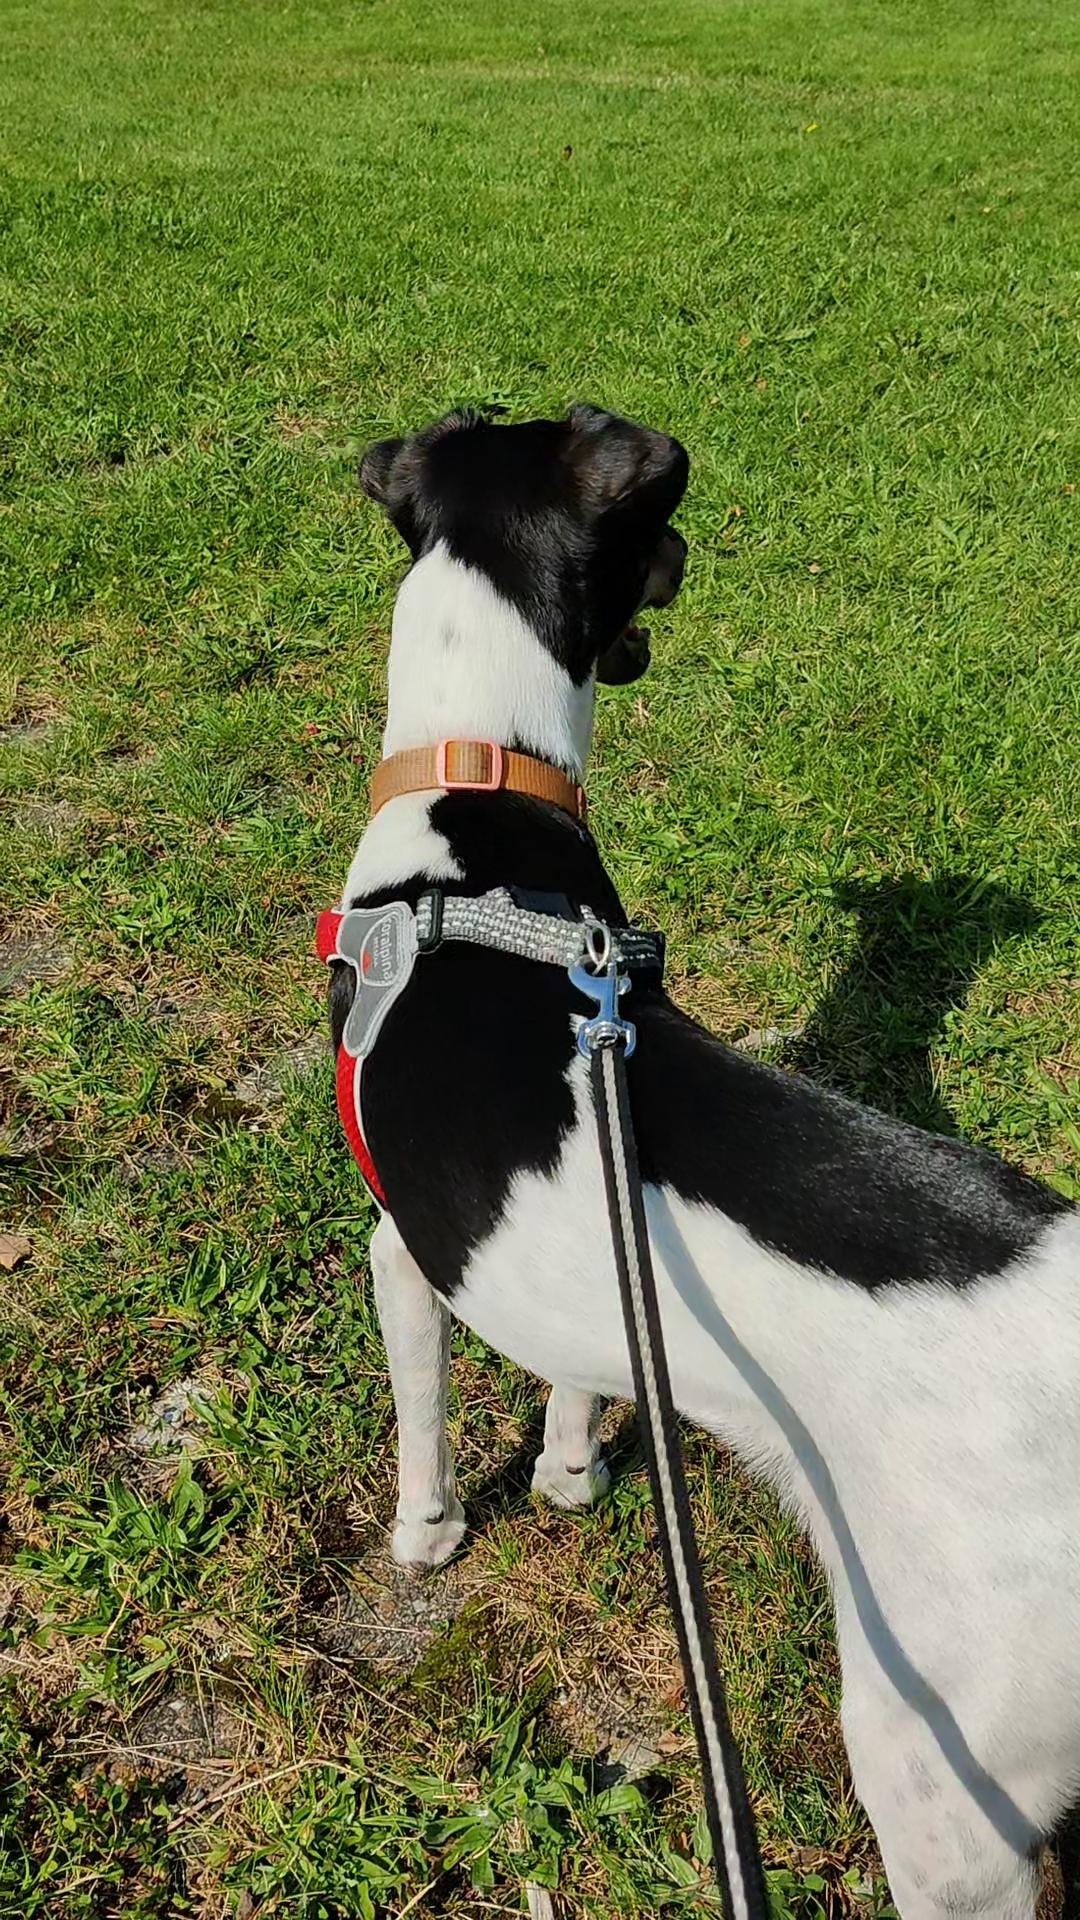Dog: (310, 386, 1079, 1919)
